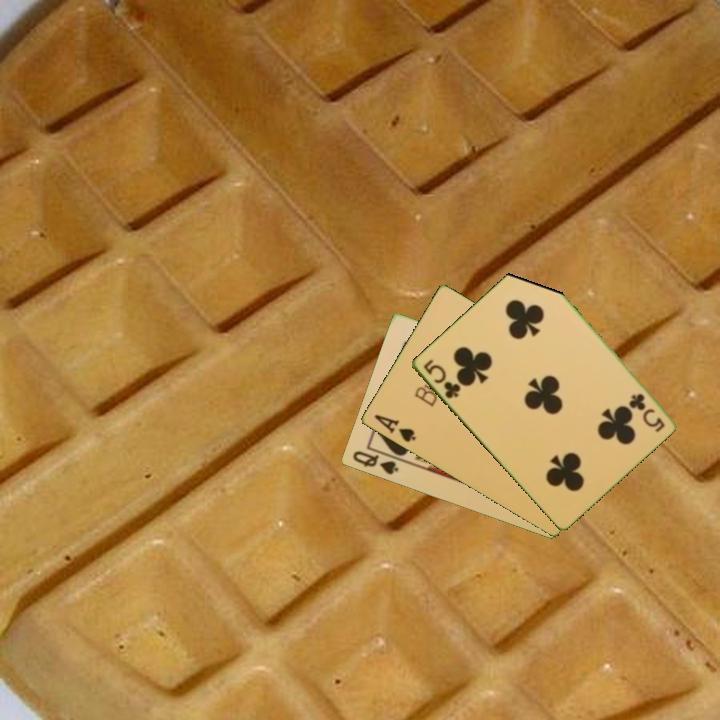5c: (419, 356, 463, 402), (626, 390, 667, 435)
As: (370, 411, 419, 445)
Qs: (349, 447, 401, 478)
